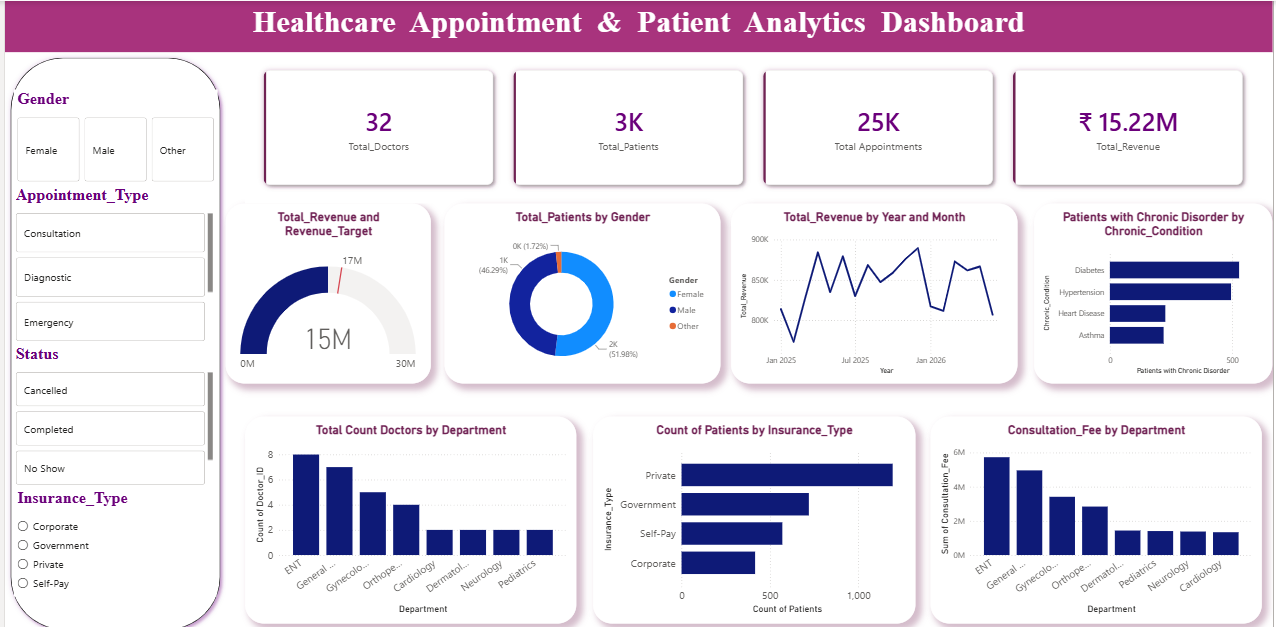

The page's visual inventory and layout, read from the dashboard file:
{"tool":"powerbi","page":{"name":"Healthcare Appointment & Patient Analytics Dashboard","canvas":[2000,1000],"ordinal":0},"visuals":[{"type":"gauge","fields":{"Y":["Appointments.Total_Revenue"],"TargetValue":["Appointments.Revenue_Target"]},"box":[347.8,319.4,324.1,283.9],"z":0},{"type":"cardVisual","fields":{"Data":["Appointments.Total_Doctors","Appointments.Total_Patients","Count(Appointments.Appointment_ID)","Appointments.Total_Revenue"]},"box":[378.6,80.4,1604.1,239],"z":1000},{"type":"textbox","box":[0,0,1999.2,80.4],"z":2000},{"type":"columnChart","title":"Total Count  Doctors by Department","fields":{"Category":["Doctors.Department"],"Y":["CountNonNull(Doctors.Doctor_ID)"]},"box":[378.6,655.4,522.9,326.5],"z":3000},{"type":"shape","box":[0,81,348.6,919.8],"z":3002},{"type":"advancedSlicerVisual","fields":{"Values":["Appointments.Appointment_Type"]},"box":[11.2,290.1,321.6,251.9],"z":3003},{"type":"advancedSlicerVisual","fields":{"Values":["Patients.Gender"]},"box":[13.5,139.4,321.6,150.7],"z":3004},{"type":"advancedSlicerVisual","fields":{"Values":["Appointments.Status"]},"box":[11.2,542,321.6,227.1],"z":3005},{"type":"listSlicer","fields":{"Values":["Patients.Insurance_Type"]},"box":[13.5,769.1,319.3,170.9],"z":3006},{"type":"barChart","fields":{"Category":["Patients.Insurance_Type"],"Y":["CountNonNull(Patients.Patient_ID)"]},"box":[927.5,655.4,508.7,326.5],"z":3007},{"type":"donutChart","fields":{"Category":["Patients.Gender"],"Y":["Appointments.Total_Patients"]},"box":[693.2,319.4,435.3,283.9],"z":3008},{"type":"lineChart","fields":{"Y":["Appointments.Total_Revenue"],"Category":["Appointments.Appointment_Date.Variation.Date Hierarchy.Year","Appointments.Appointment_Date.Variation.Date Hierarchy.Month"]},"box":[1145.1,319.4,451.9,283.9],"z":3009},{"type":"clusteredColumnChart","title":"Consultation_Fee by Department","fields":{"Y":["Sum(Appointments.Consultation_Fee)"],"Category":["Doctors.Department"]},"box":[1459.8,655.4,522.9,326.5],"z":3010},{"type":"barChart","fields":{"Y":["Patients.Patients with Chronic Disorder"],"Category":["Patients.Chronic_Condition"]},"box":[1623,319.4,376.2,283.9],"z":3011}]}

Visuals, with their boxes in screenshot pixels (x1, y1, x2, y2), scaled from the page's 2000x1000 canvas onto the 1276x627 screenshot:
gauge - Appointments.Total_Revenue x Appointments.Revenue_Target: pyautogui.locateOnScreen(222, 200, 429, 378)
cardVisual - Appointments.Total_Doctors x Appointments.Total_Patients: pyautogui.locateOnScreen(242, 50, 1265, 200)
textbox: pyautogui.locateOnScreen(0, 0, 1275, 50)
"Total Count  Doctors by Department" columnChart: pyautogui.locateOnScreen(242, 411, 575, 616)
shape: pyautogui.locateOnScreen(0, 51, 222, 626)
advancedSlicerVisual - Appointments.Appointment_Type: pyautogui.locateOnScreen(7, 182, 212, 340)
advancedSlicerVisual - Patients.Gender: pyautogui.locateOnScreen(9, 87, 214, 182)
advancedSlicerVisual - Appointments.Status: pyautogui.locateOnScreen(7, 340, 212, 482)
listSlicer - Patients.Insurance_Type: pyautogui.locateOnScreen(9, 482, 212, 589)
barChart - Patients.Insurance_Type x CountNonNull(Patients.Patient_ID): pyautogui.locateOnScreen(592, 411, 916, 616)
donutChart - Patients.Gender x Appointments.Total_Patients: pyautogui.locateOnScreen(442, 200, 720, 378)
lineChart - Appointments.Total_Revenue x Appointments.Appointment_Date.Variation.Date Hierarchy.Year: pyautogui.locateOnScreen(731, 200, 1019, 378)
"Consultation_Fee by Department" clusteredColumnChart: pyautogui.locateOnScreen(931, 411, 1265, 616)
barChart - Patients.Patients with Chronic Disorder x Patients.Chronic_Condition: pyautogui.locateOnScreen(1035, 200, 1275, 378)
